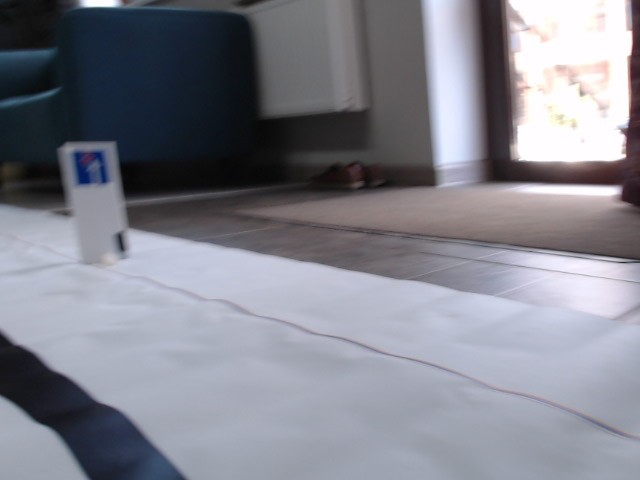priority_movement: (73, 148, 110, 188)
